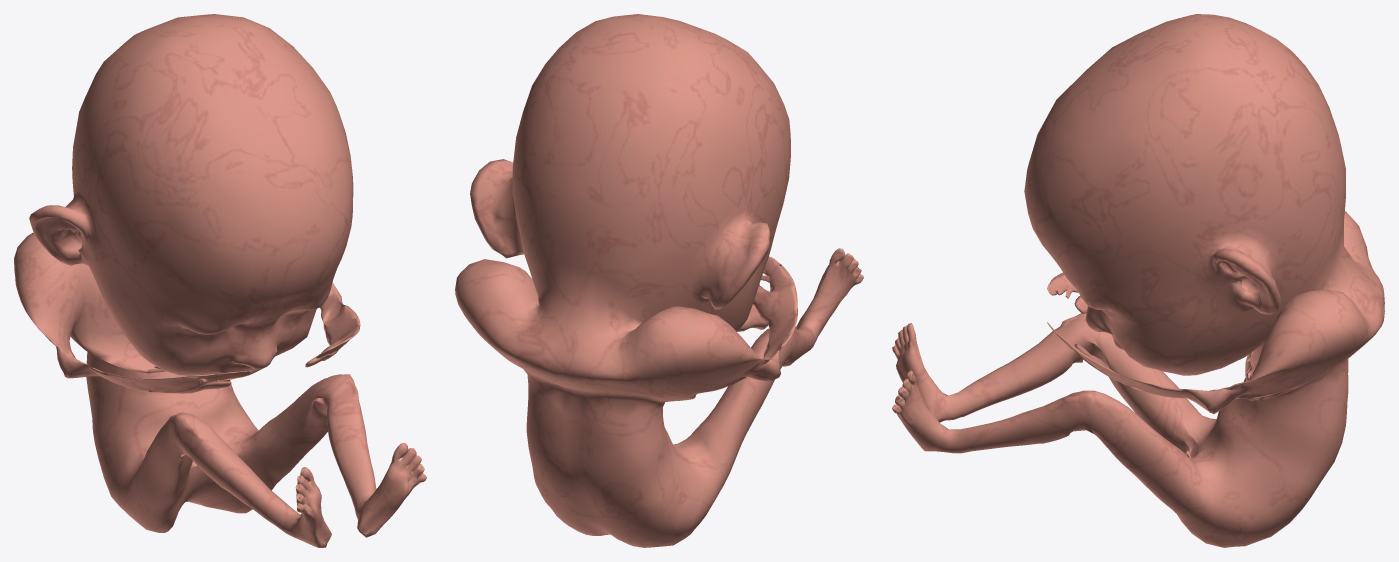
3 renders of one model, left to right at view 1: azimuth 30°, elevation 25°; view 2: azimuth 150°, elevation 25°; view 3: azimuth 270°, elevation 25°, orthographic.
Parts seen in each view (by area): view 1: Baby; view 2: Baby; view 3: Baby.
Boxes of the visible parts, box(x1,y1,x2,y2) form: Baby: box(14, 14, 426, 547); Baby: box(455, 14, 863, 547); Baby: box(892, 14, 1384, 547).
Bounding box in the file's own units: 0.0206 × 0.0337 × 0.0301.
1 material, 1 textured.
